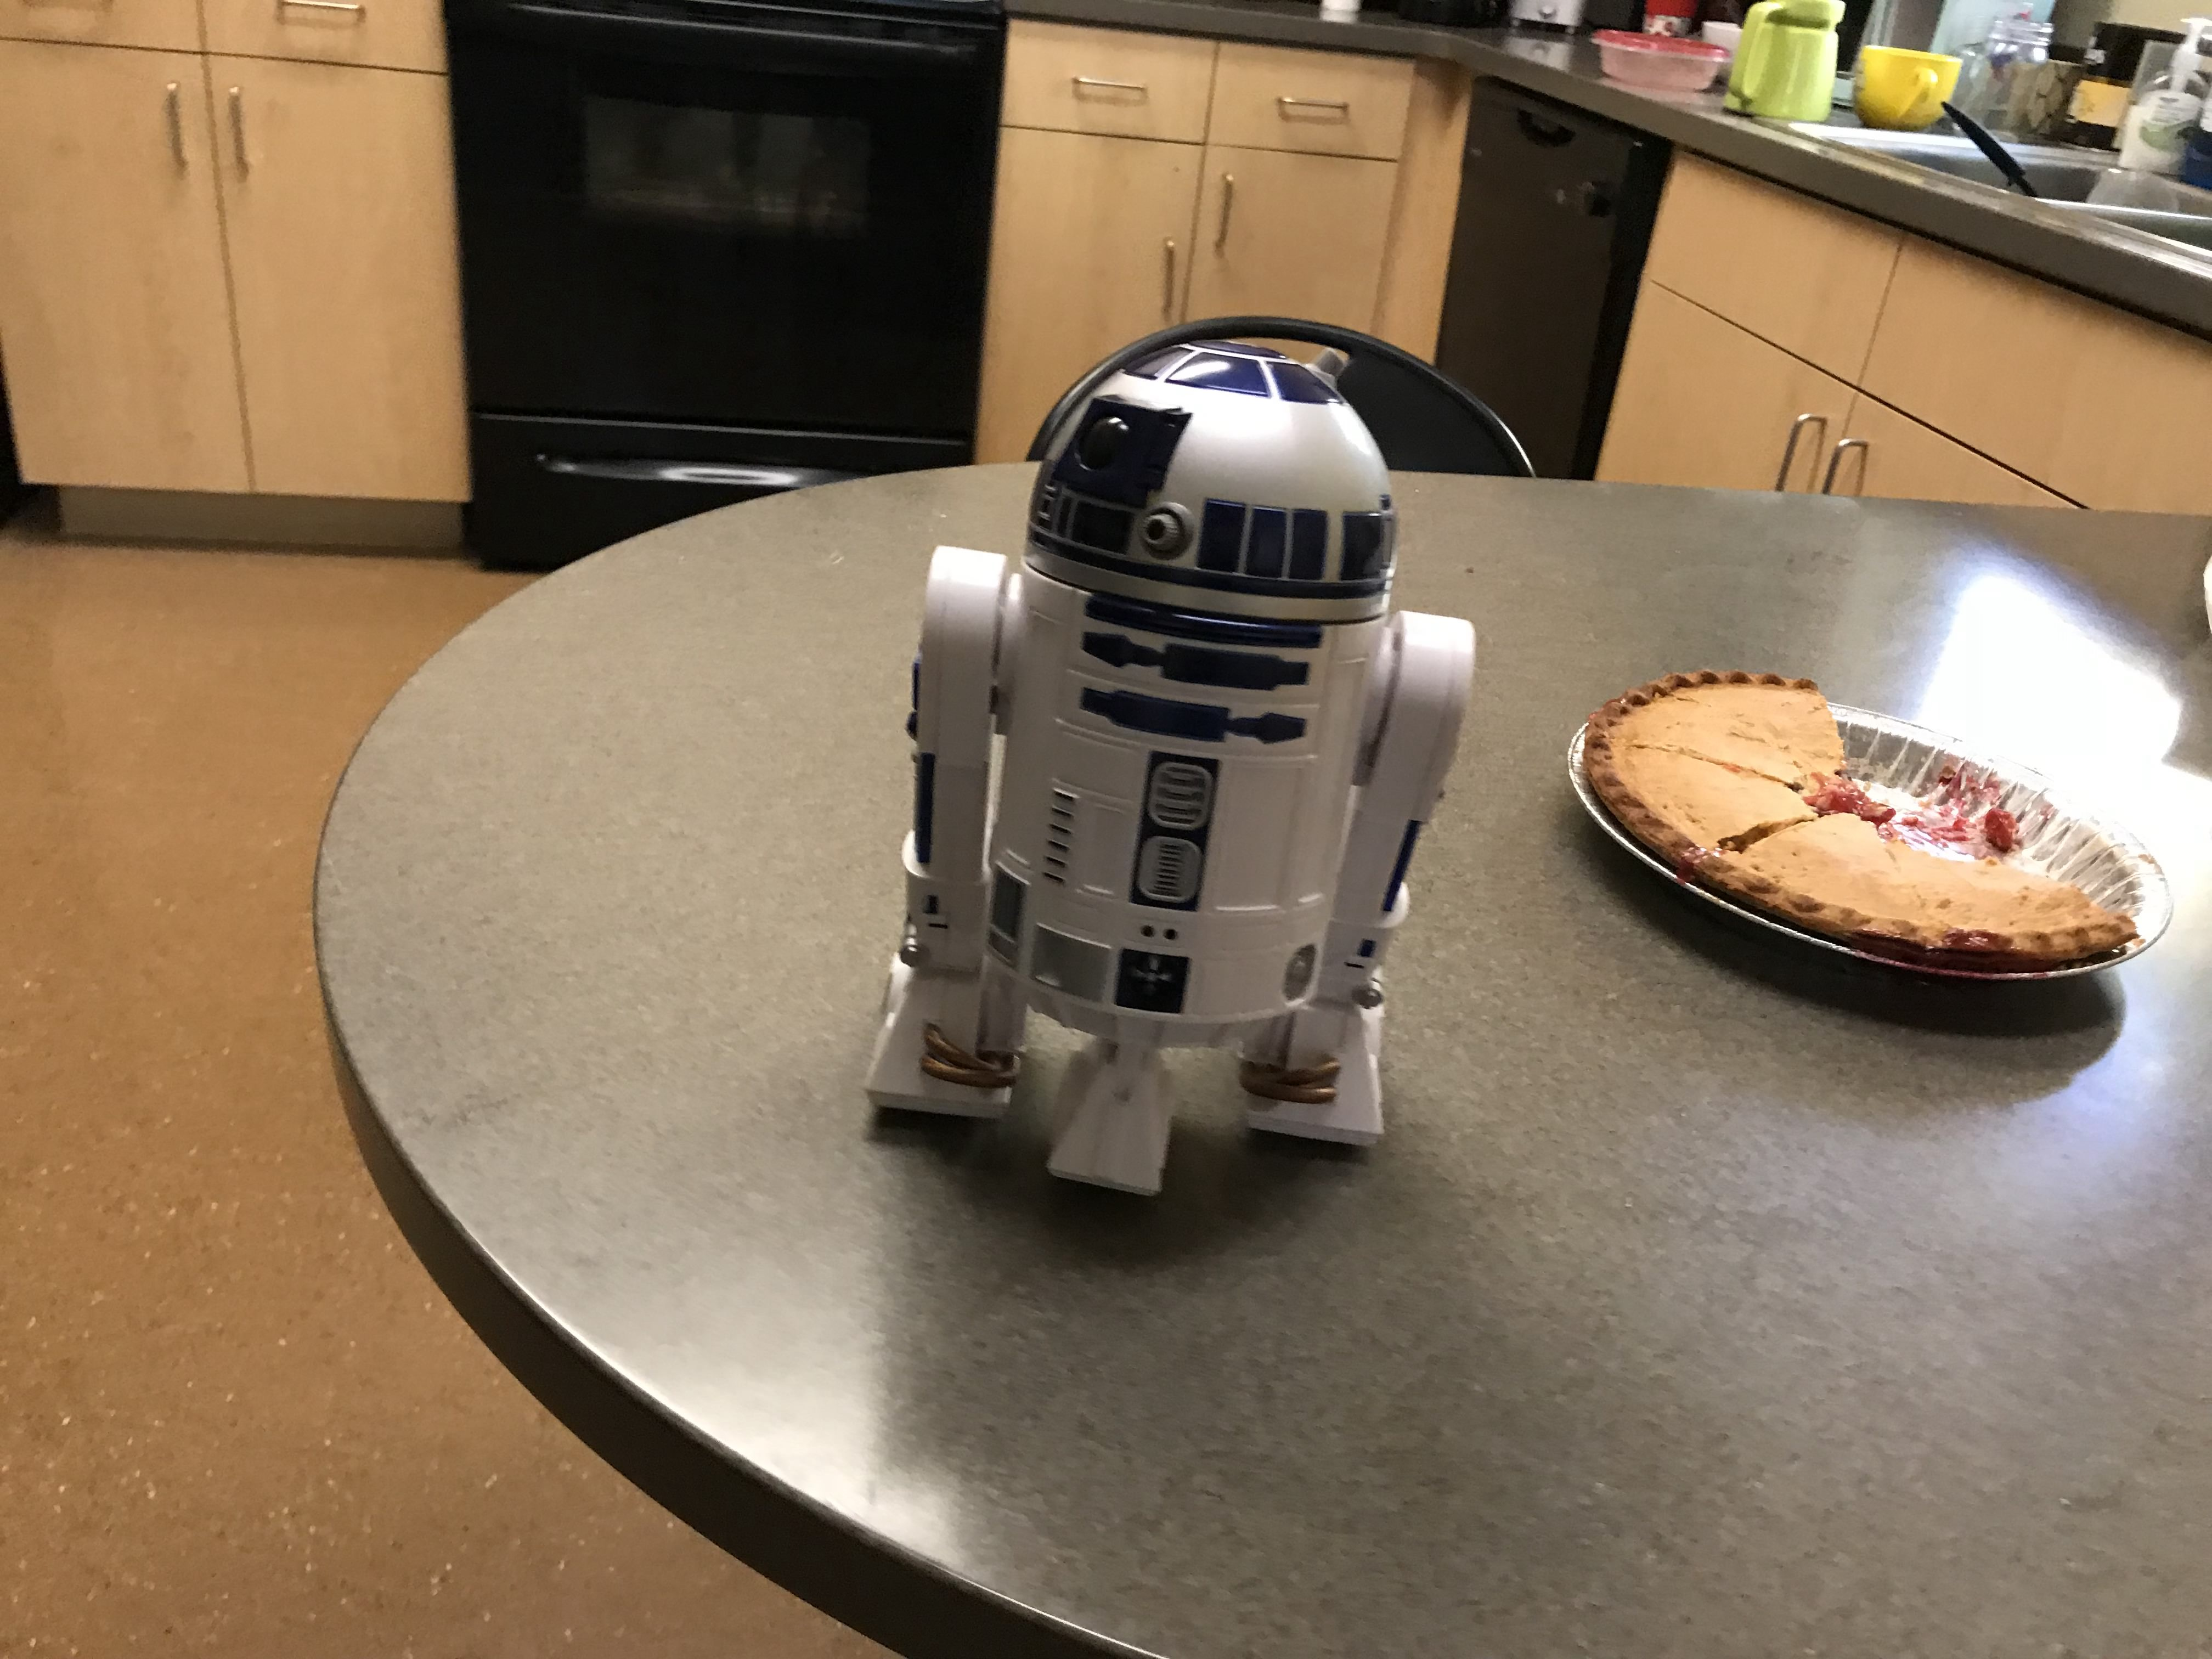r2d2: (869, 342, 1470, 1197)
